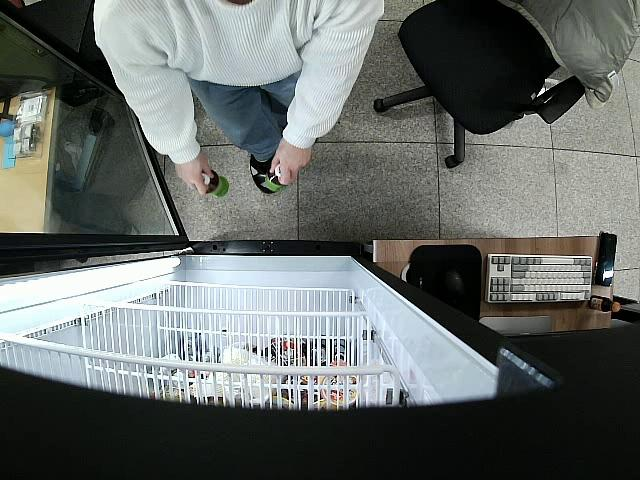00_hand: (272, 139, 313, 184), (174, 154, 214, 196)
19_17cha: (200, 170, 231, 197), (261, 164, 285, 196)
